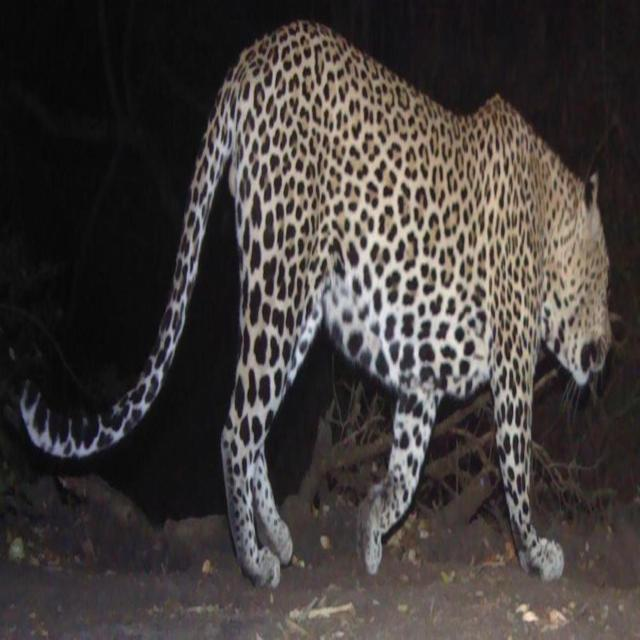Leopard: (25, 32, 638, 636)
